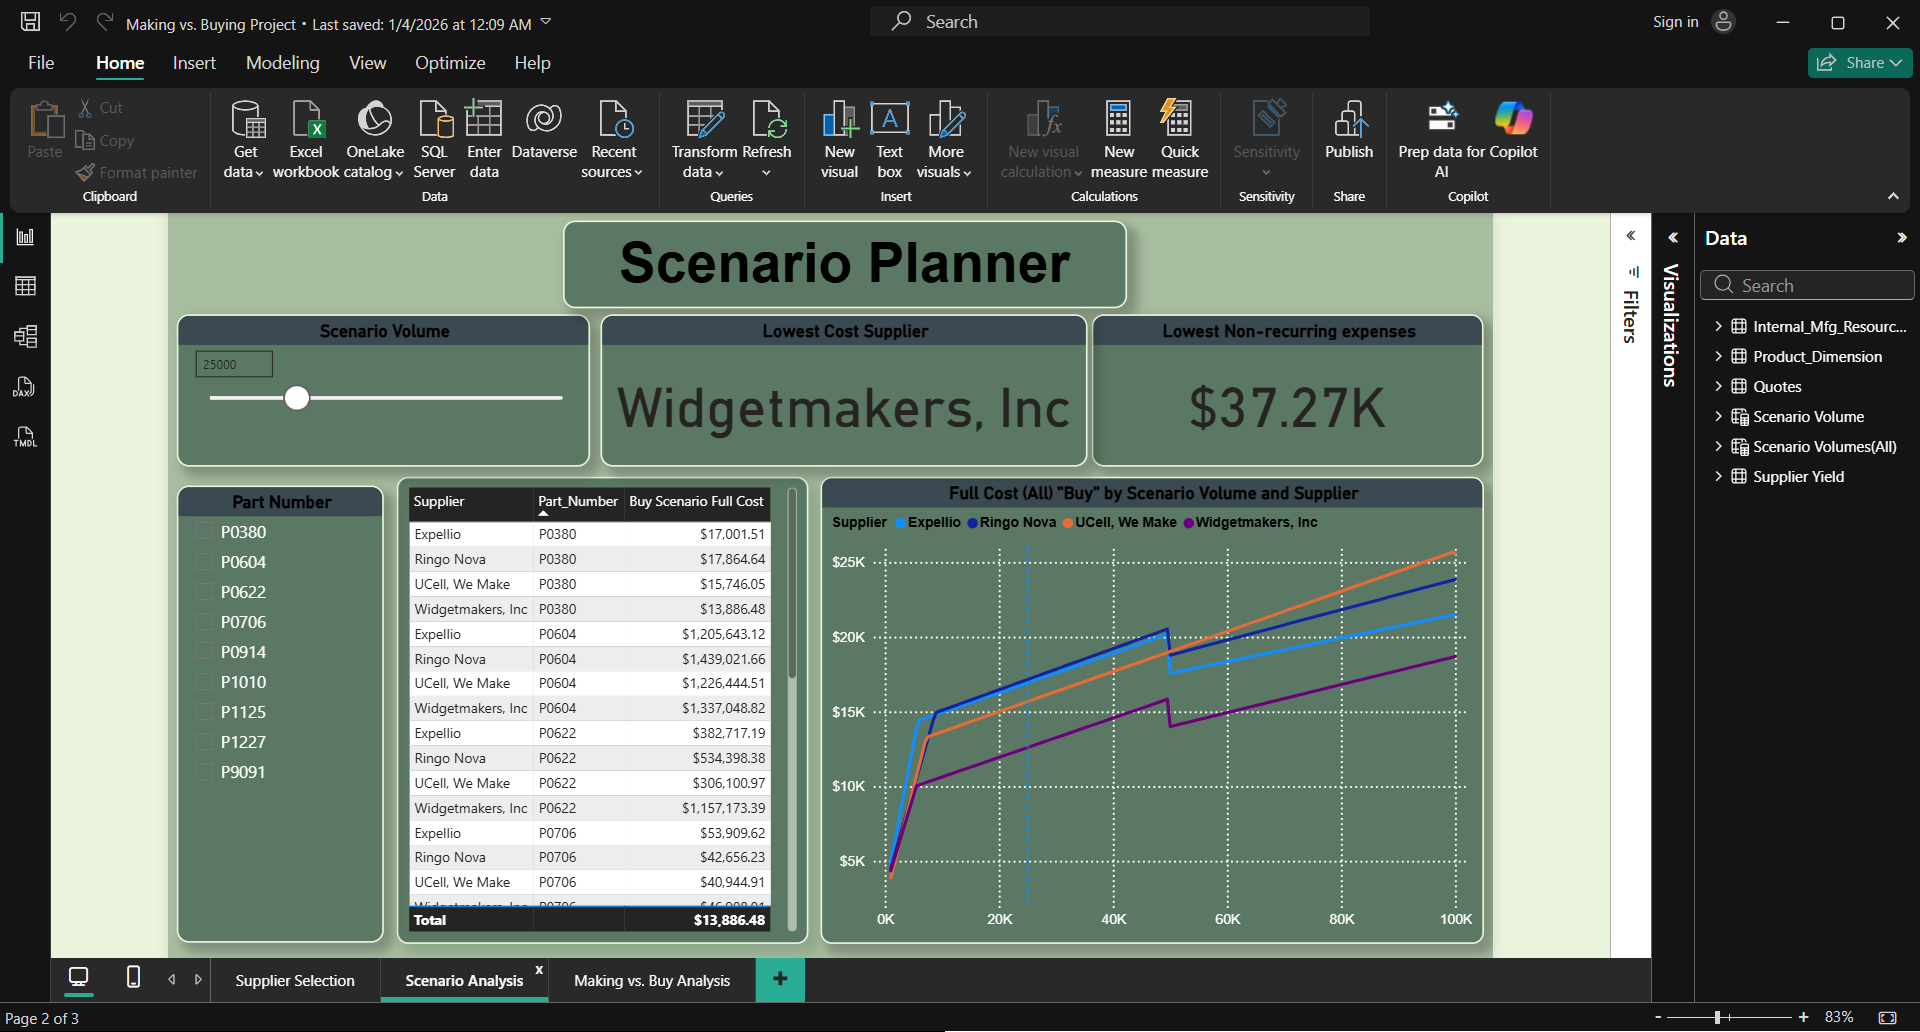

This screenshot's page, from the dashboard's own definition file:
{"tool":"powerbi","page":{"name":"Scenario Analysis","canvas":[1280,720],"ordinal":1},"visuals":[{"type":"tableEx","fields":{"Values":["Quotes.Supplier","Quotes.Part_Number","Scenario Volume.Scenario Full Cost"]},"box":[220.9,254.5,397.9,450.9],"z":0},{"type":"slicer","title":"Scenario Volume","fields":{"Values":["Scenario Volume.Scenario Volume"]},"box":[9,98.2,399.2,147.3],"z":1000},{"type":"textbox","box":[381.5,7.2,544.5,84.5],"z":2000},{"type":"slicer","title":"Part  Number","fields":{"Values":["Quotes.Part_Number"]},"box":[9,263.5,200.2,441.8],"z":3000},{"type":"card","title":"Lowest Non-recurring expenses ","fields":{"Values":["Sum(Quotes.Non_recurring_expenses)"]},"box":[892.7,98.2,378.5,147.3],"z":4000},{"type":"lineChart","fields":{"Y":["Scenario Volumes(All).Full Cost (All)"],"Category":["Scenario Volumes(All).Scenario Volume"],"Series":["Quotes.Supplier"]},"box":[630.4,254.5,640.8,450.9],"z":5000},{"type":"card","title":"Lowest Cost Supplier","fields":{"Values":["Min(Quotes.Supplier)"]},"box":[417.3,98.2,470.2,147.3],"z":6000}]}

Visuals, with their boxes on the page's 1280x720 design canvas (x1, y1, x2, y2). These are canvas units, not pixel positions in the 1920x1032 screenshot, which may show the page scaled, cropped or inside an application window:
tableEx - Quotes.Supplier x Quotes.Part_Number: <region>221, 254, 619, 705</region>
"Scenario Volume" slicer: <region>9, 98, 408, 246</region>
textbox: <region>382, 7, 926, 92</region>
"Part  Number" slicer: <region>9, 264, 209, 705</region>
"Lowest Non-recurring expenses " card: <region>893, 98, 1271, 246</region>
lineChart - Scenario Volumes(All).Full Cost (All) x Scenario Volumes(All).Scenario Volume: <region>630, 254, 1271, 705</region>
"Lowest Cost Supplier" card: <region>417, 98, 888, 246</region>
